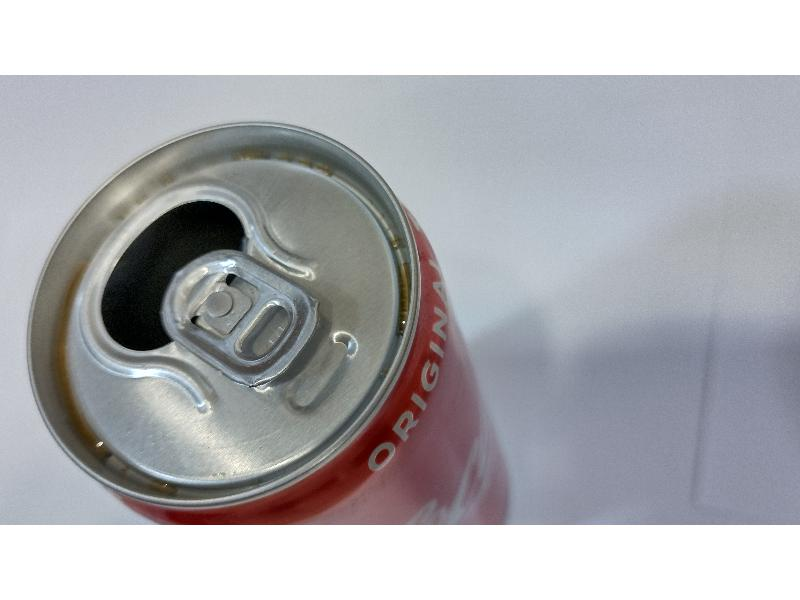can: (23, 119, 519, 526)
